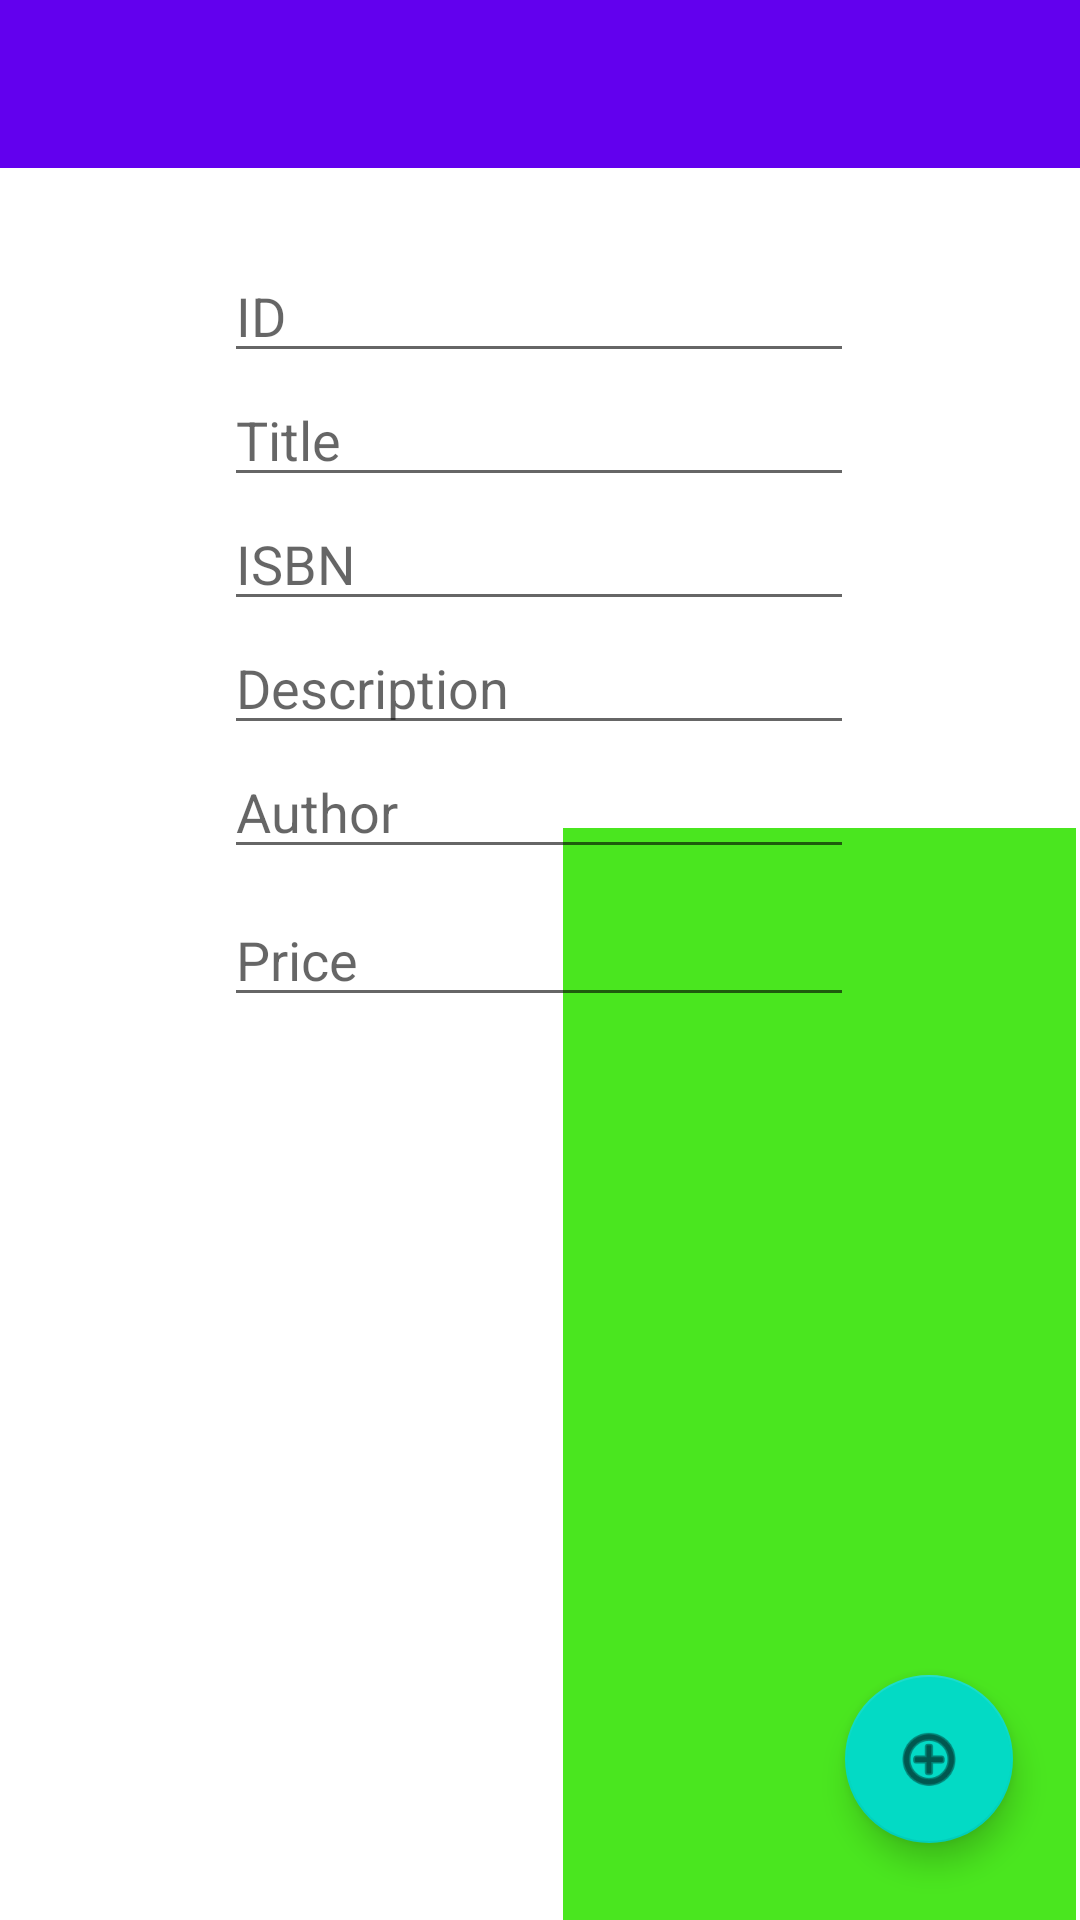

Where to tap for icons on this 1080*1920 app screen, as (x=x, y=y):
add: (x=929, y=1759)
